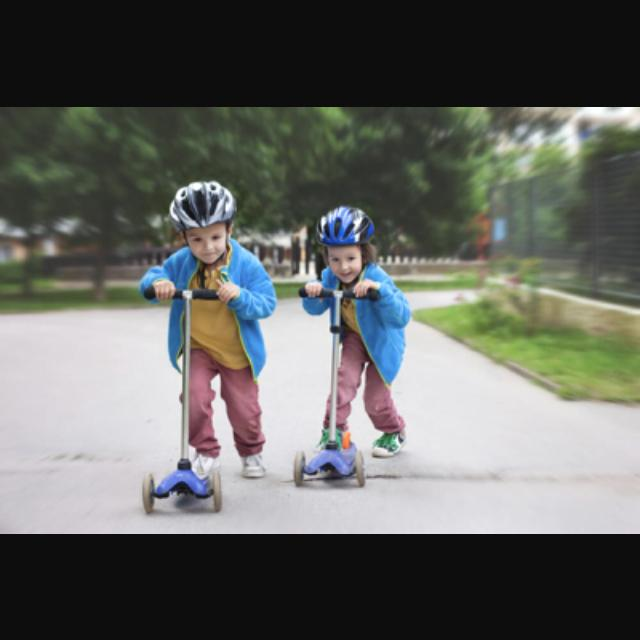With Helmet: (160, 173, 242, 267), (312, 202, 378, 284)
